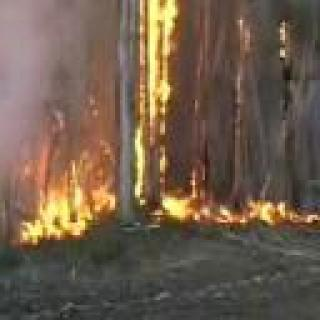fire: (30, 155, 320, 235), (138, 0, 188, 157), (270, 21, 290, 71)
